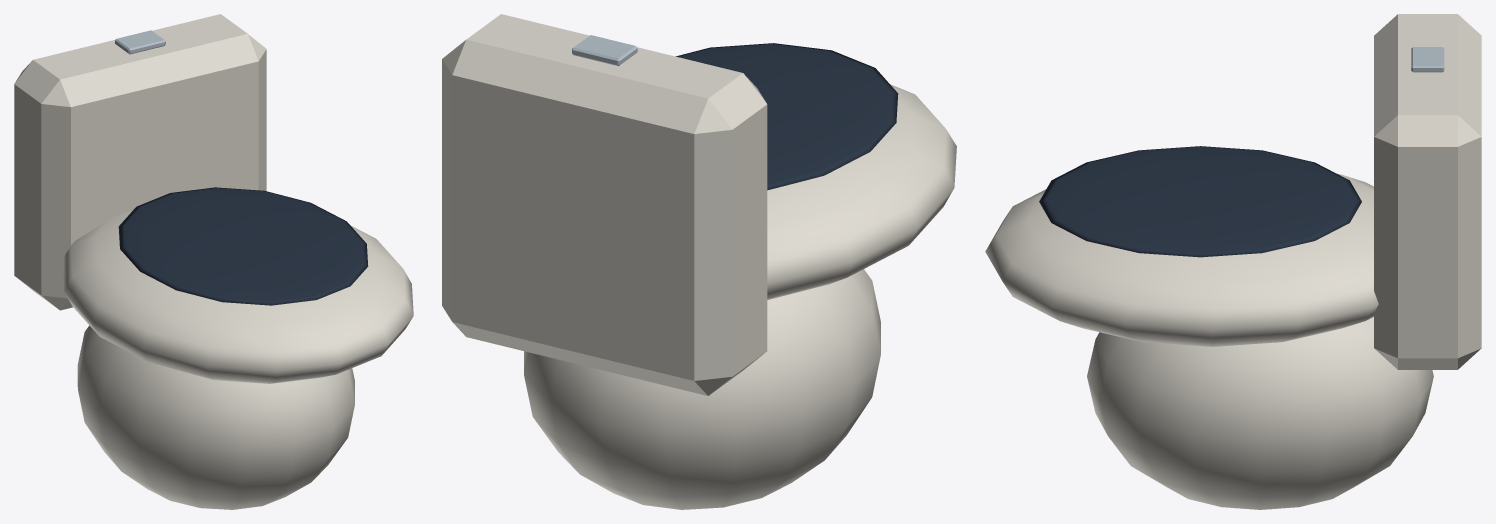
Rendered from utility_04.glb.
3 renders of one model, left to right at view 1: azimuth 30°, elevation 25°; view 2: azimuth 150°, elevation 25°; view 3: azimuth 270°, elevation 25°, orthographic. The views are drawn at different scales.
Visible parts, largest first — view 1: Tank, ToiletBase, ToiletBowl, SeatInset, Flush; view 2: Tank, ToiletBase, ToiletBowl, SeatInset, Flush; view 3: ToiletBase, Tank, ToiletBowl, SeatInset, Flush.
Boxes of the visible parts, x1,y1,x2,y2 form: Tank: (14, 14, 266, 310); ToiletBase: (77, 325, 354, 509); ToiletBowl: (62, 210, 413, 383); SeatInset: (118, 187, 368, 305); Flush: (115, 30, 165, 54); Tank: (442, 14, 767, 395); ToiletBase: (524, 269, 880, 509); ToiletBowl: (767, 84, 956, 299); SeatInset: (675, 43, 898, 190); Flush: (572, 35, 637, 65); ToiletBase: (1087, 317, 1433, 509); Tank: (1374, 14, 1481, 369); ToiletBowl: (985, 173, 1378, 346); SeatInset: (1039, 146, 1361, 257); Flush: (1411, 47, 1444, 72).
Bounding box in the file's own units: 0.62 × 0.81 × 0.83.
